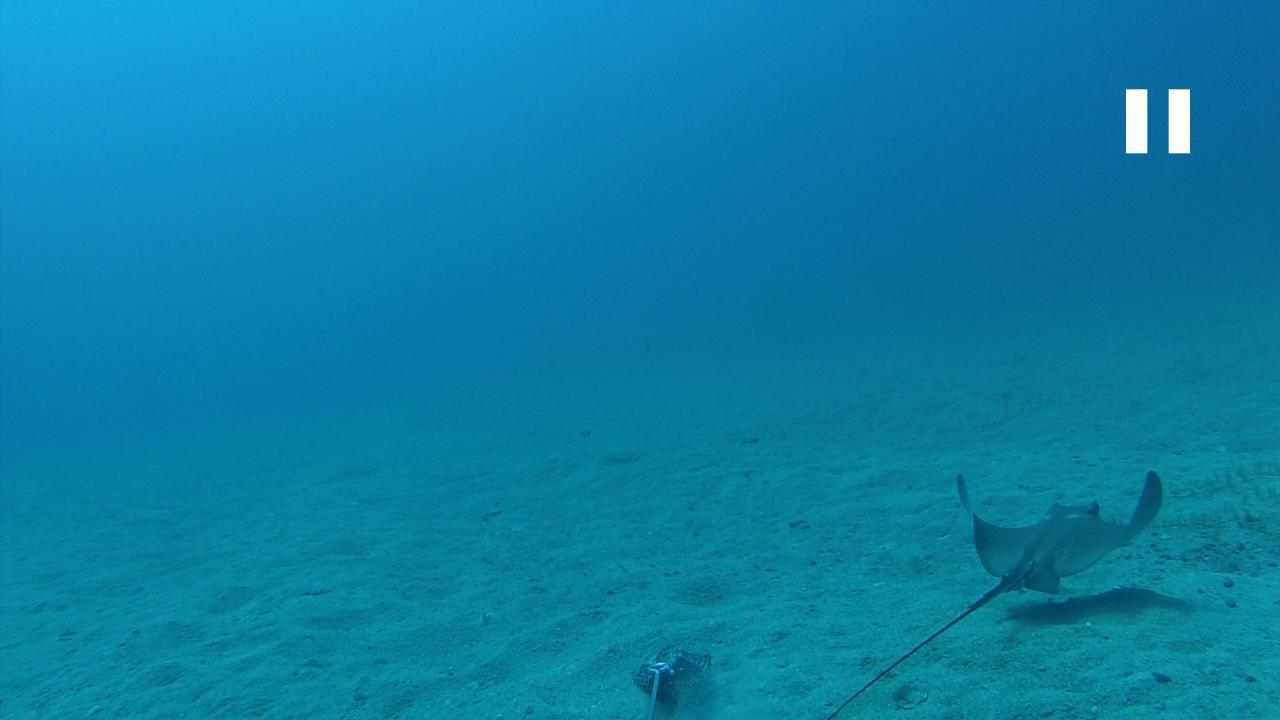dasyatis: (826, 468, 1166, 719)
